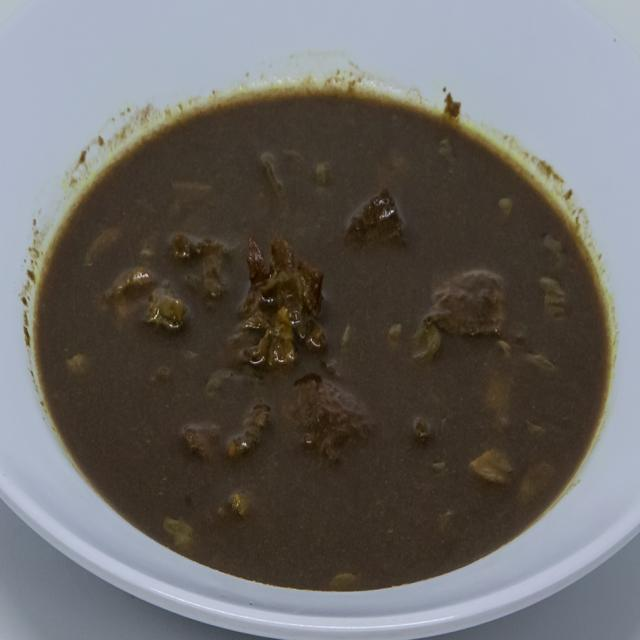Rawon-Surabaya: (26, 73, 619, 597)
